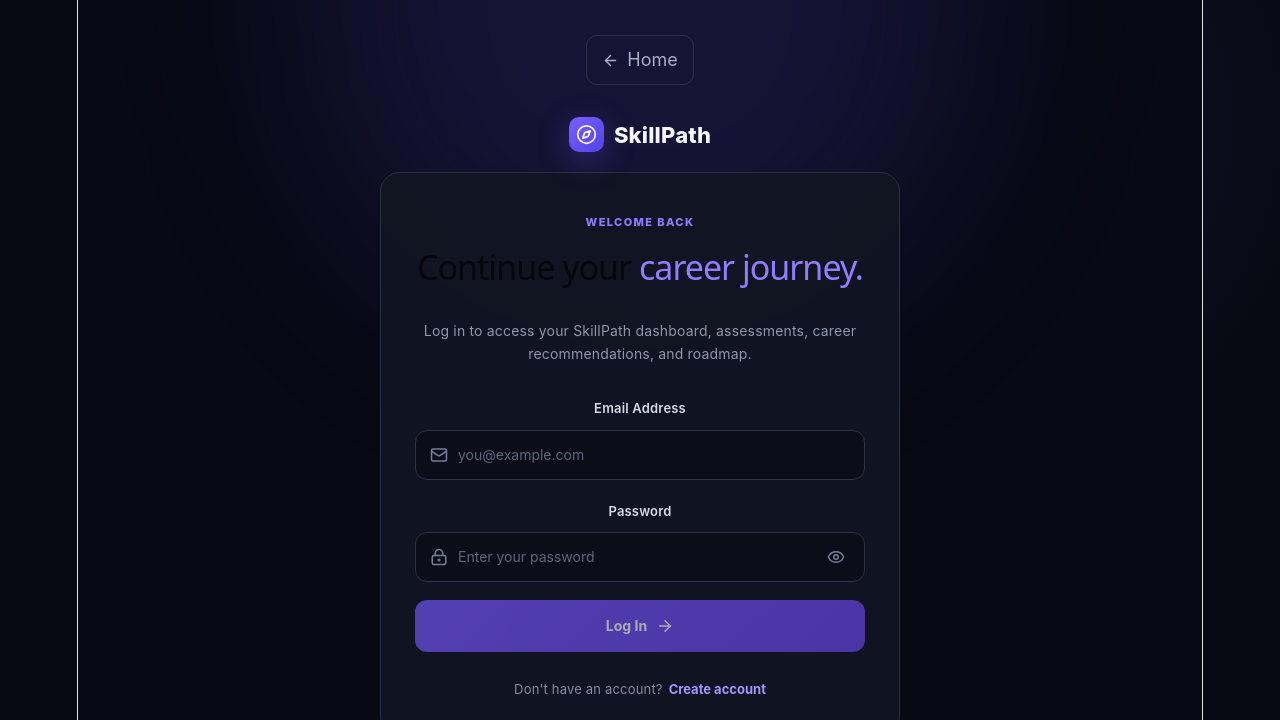
Login page › shows an error for an invalid email address
The image size is (1280, 720).
Type "invalid-email" into the field labelled "Email Address" at (654, 455), box [458, 442, 850, 468]
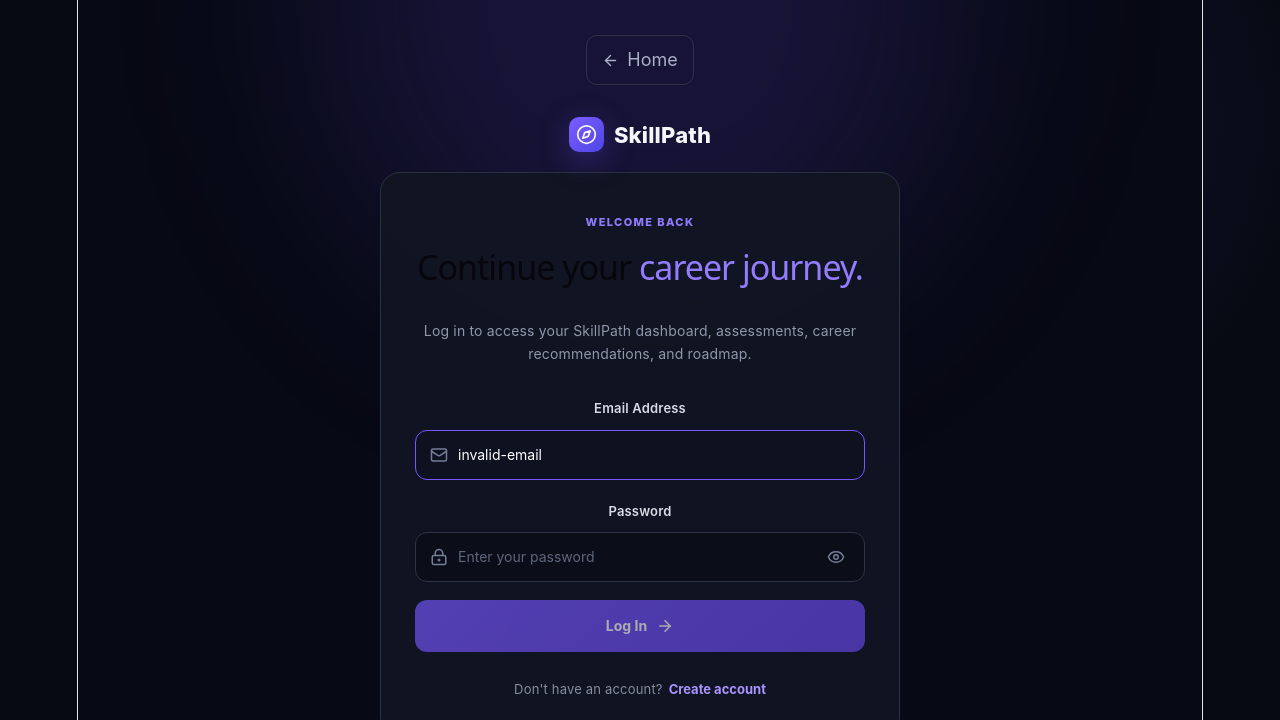
Type "password123" into the password field labelled "Password" at (635, 557), box [458, 544, 812, 570]
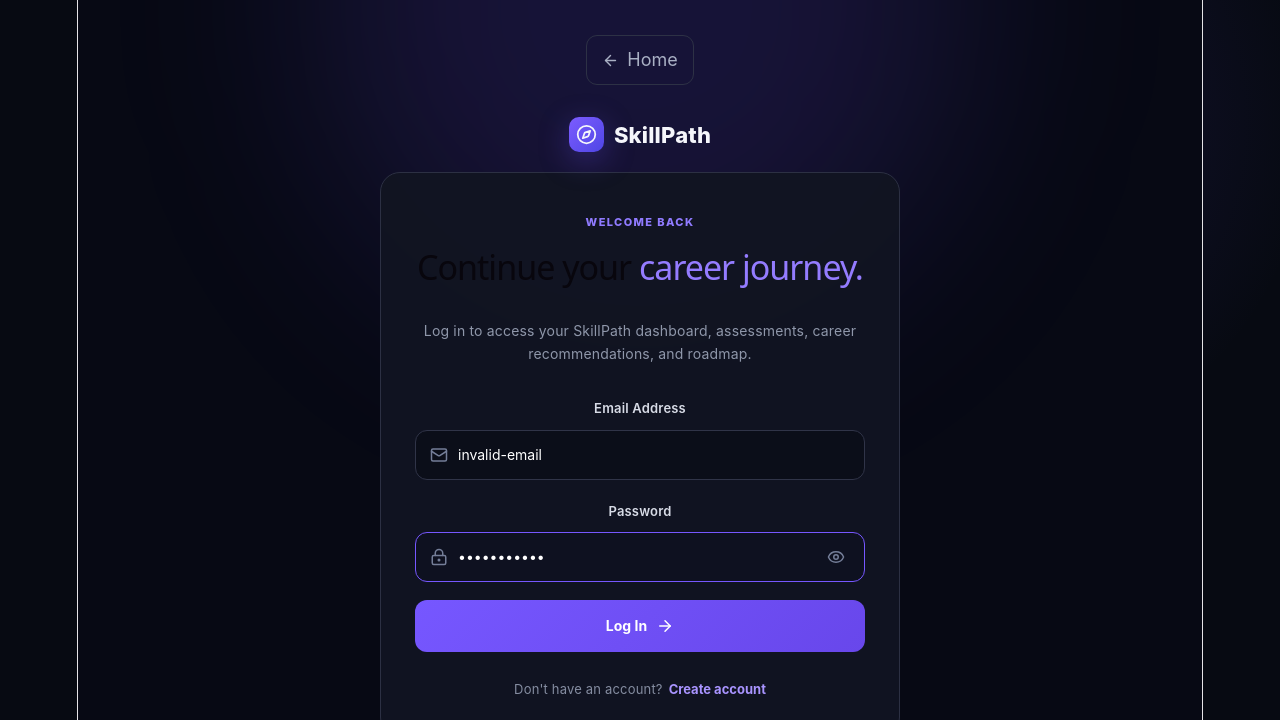
Click the button "Log In" at (640, 626), box [415, 600, 865, 652]
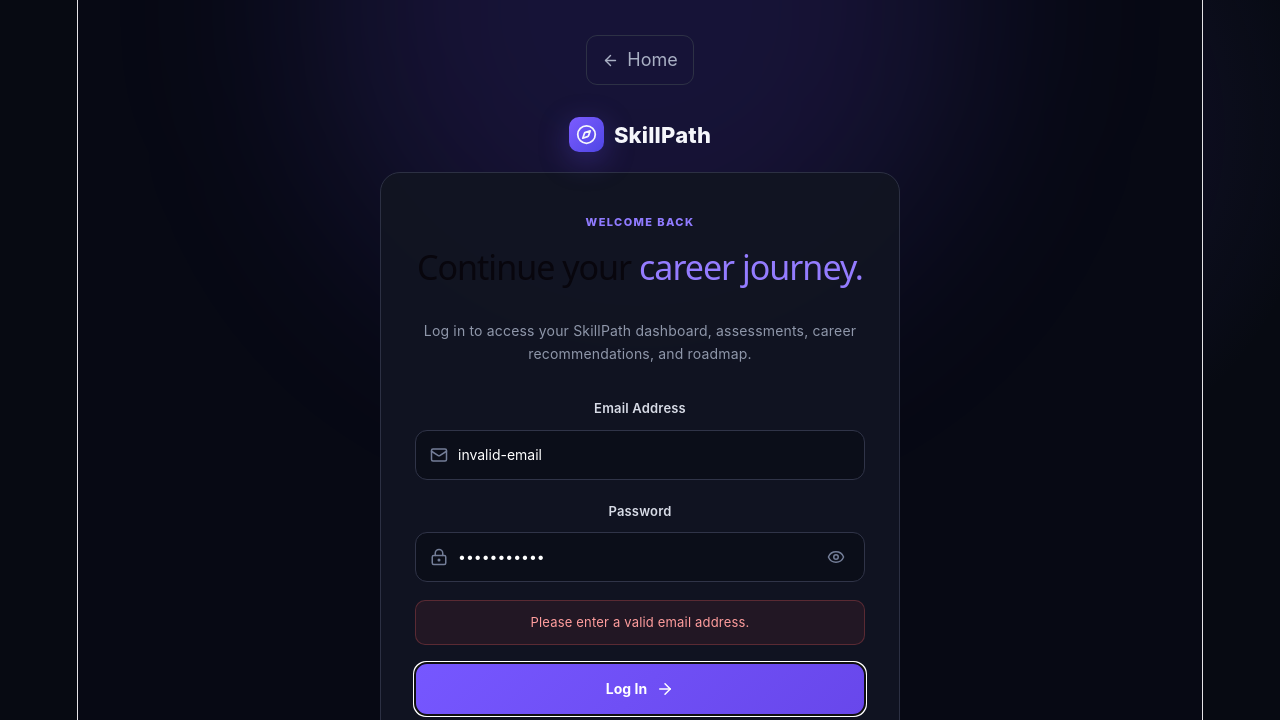
Expected: the text "Please enter a valid email address." is shown, [415, 600, 865, 645]
